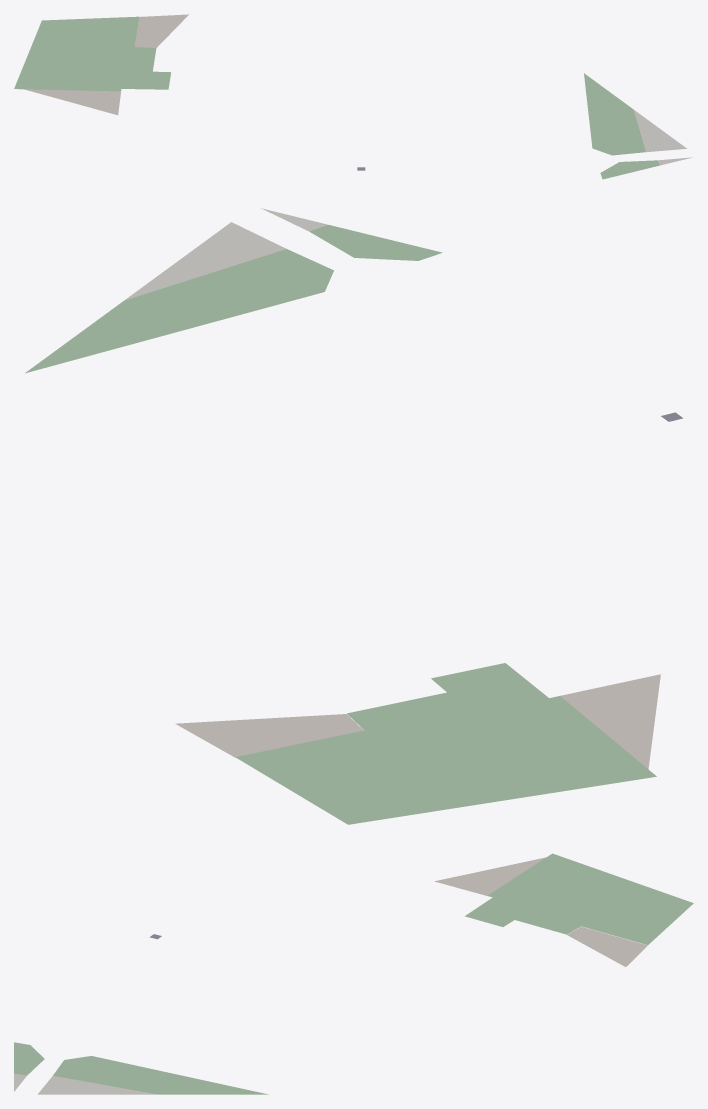
Rendered from 100_95_mid.glb.
The picture shows the model from 3 angles, top to bottom: view 1: azimuth 30°, elevation 25°; view 2: azimuth 150°, elevation 25°; view 3: azimuth 270°, elevation 25°; orthographic projection. The views are drawn at different scales.
Bounding box in the file's own units: 417 × 7.82 × 496.
